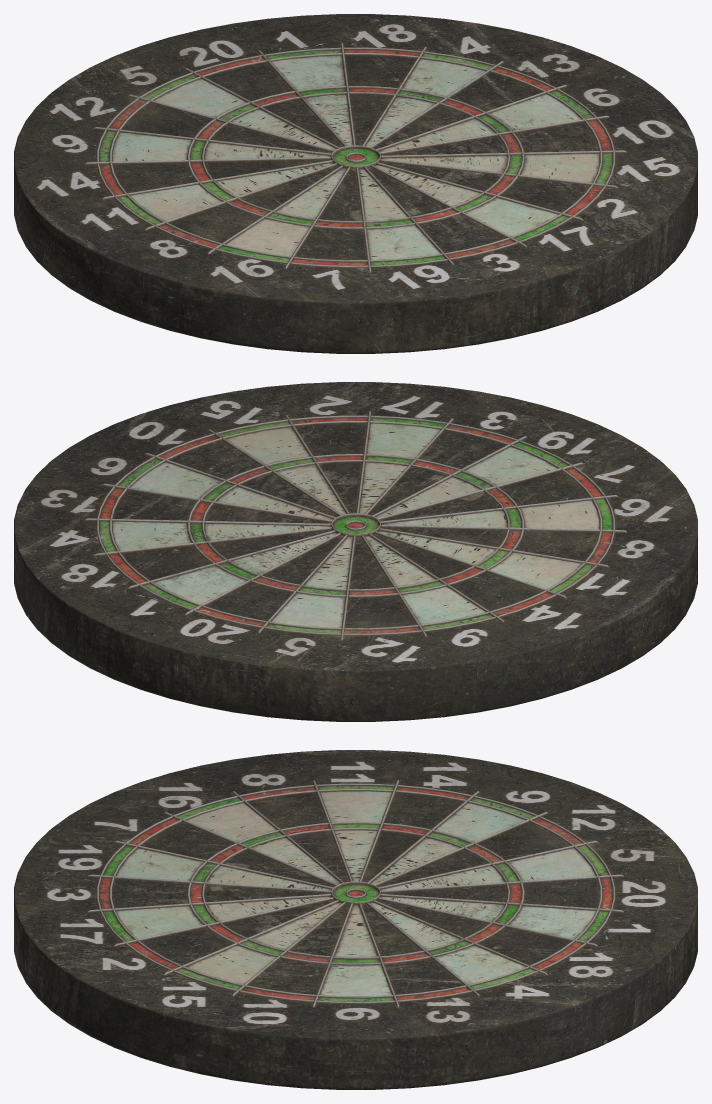
The model's file is board.glb.
3 renders of one model, top to bottom at view 1: azimuth 30°, elevation 25°; view 2: azimuth 150°, elevation 25°; view 3: azimuth 270°, elevation 25°, orthographic.
Parts seen in each view (by area): view 1: dartboard; view 2: dartboard; view 3: dartboard.
Boxes of the visible parts, x1,y1,x2,y2 form: dartboard: (14,14,697,353); dartboard: (14,382,697,721); dartboard: (14,750,697,1089).
Bounding box in the file's own units: 2.62 × 0.231 × 2.62.
Materials: 1 (1 with a texture image).
